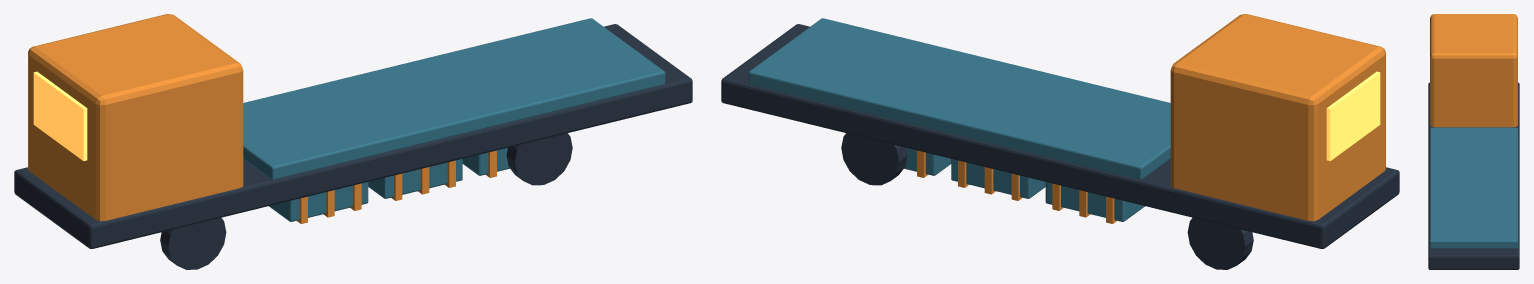
Rendered from flatbed-truck-medium.glb.
3 views of the same model, side by side, from view 1: azimuth 30°, elevation 25°; view 2: azimuth 150°, elevation 25°; view 3: azimuth 270°, elevation 25° (orthographic). The views are drawn at different scales.
Parts seen in each view (by area): view 1: truck_cab, flatbed_deck, flatbed_frame, windshield, truck_wheel.002, truck_wheel, steel_bundle.021, steel_bundle.022, steel_bundle.023; view 2: truck_cab, flatbed_deck, flatbed_frame, windshield, truck_wheel.003, truck_wheel.001, steel_bundle.021, steel_bundle.022, steel_bundle.023; view 3: flatbed_deck, truck_cab, flatbed_frame.
Part boxes in pixels (x1,y1,x2,y2): truck_cab: (28, 14, 243, 221); flatbed_deck: (243, 18, 665, 179); flatbed_frame: (14, 24, 692, 248); windshield: (33, 71, 87, 160); truck_wheel.002: (506, 133, 572, 185); truck_wheel: (160, 217, 226, 269); steel_bundle.021: (269, 182, 368, 221); steel_bundle.022: (368, 159, 462, 198); steel_bundle.023: (462, 148, 509, 175); truck_cab: (1170, 14, 1385, 221); flatbed_deck: (748, 18, 1170, 179); flatbed_frame: (721, 24, 1399, 248); windshield: (1326, 71, 1380, 160); truck_wheel.003: (841, 133, 907, 185); truck_wheel.001: (1187, 217, 1253, 269); steel_bundle.021: (1045, 182, 1144, 221); steel_bundle.022: (951, 159, 1045, 198); steel_bundle.023: (904, 148, 951, 175); flatbed_deck: (1430, 127, 1517, 248); truck_cab: (1430, 14, 1517, 127); flatbed_frame: (1428, 82, 1519, 269).
Bounding box in the file's own units: 11.5 × 3.51 × 2.55.
